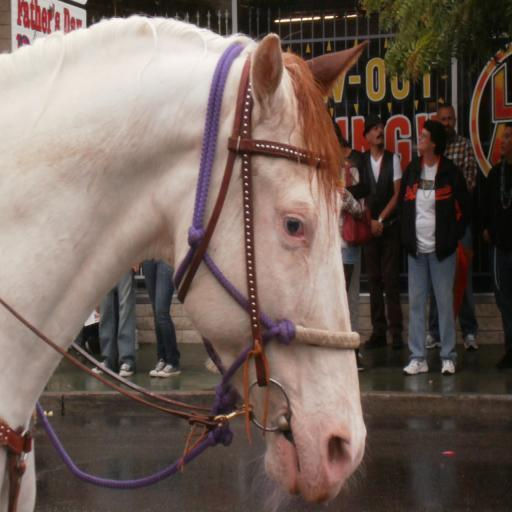Horse: (0, 10, 373, 511)
